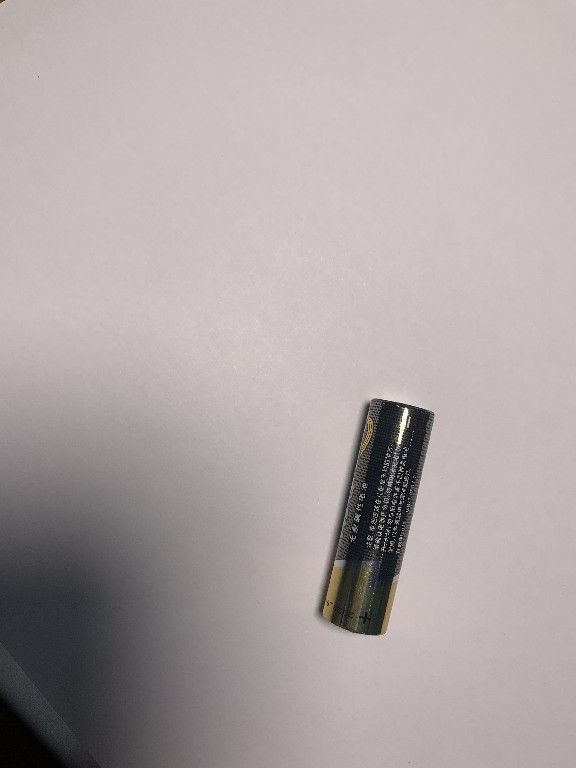charge: (315, 398, 437, 639)
